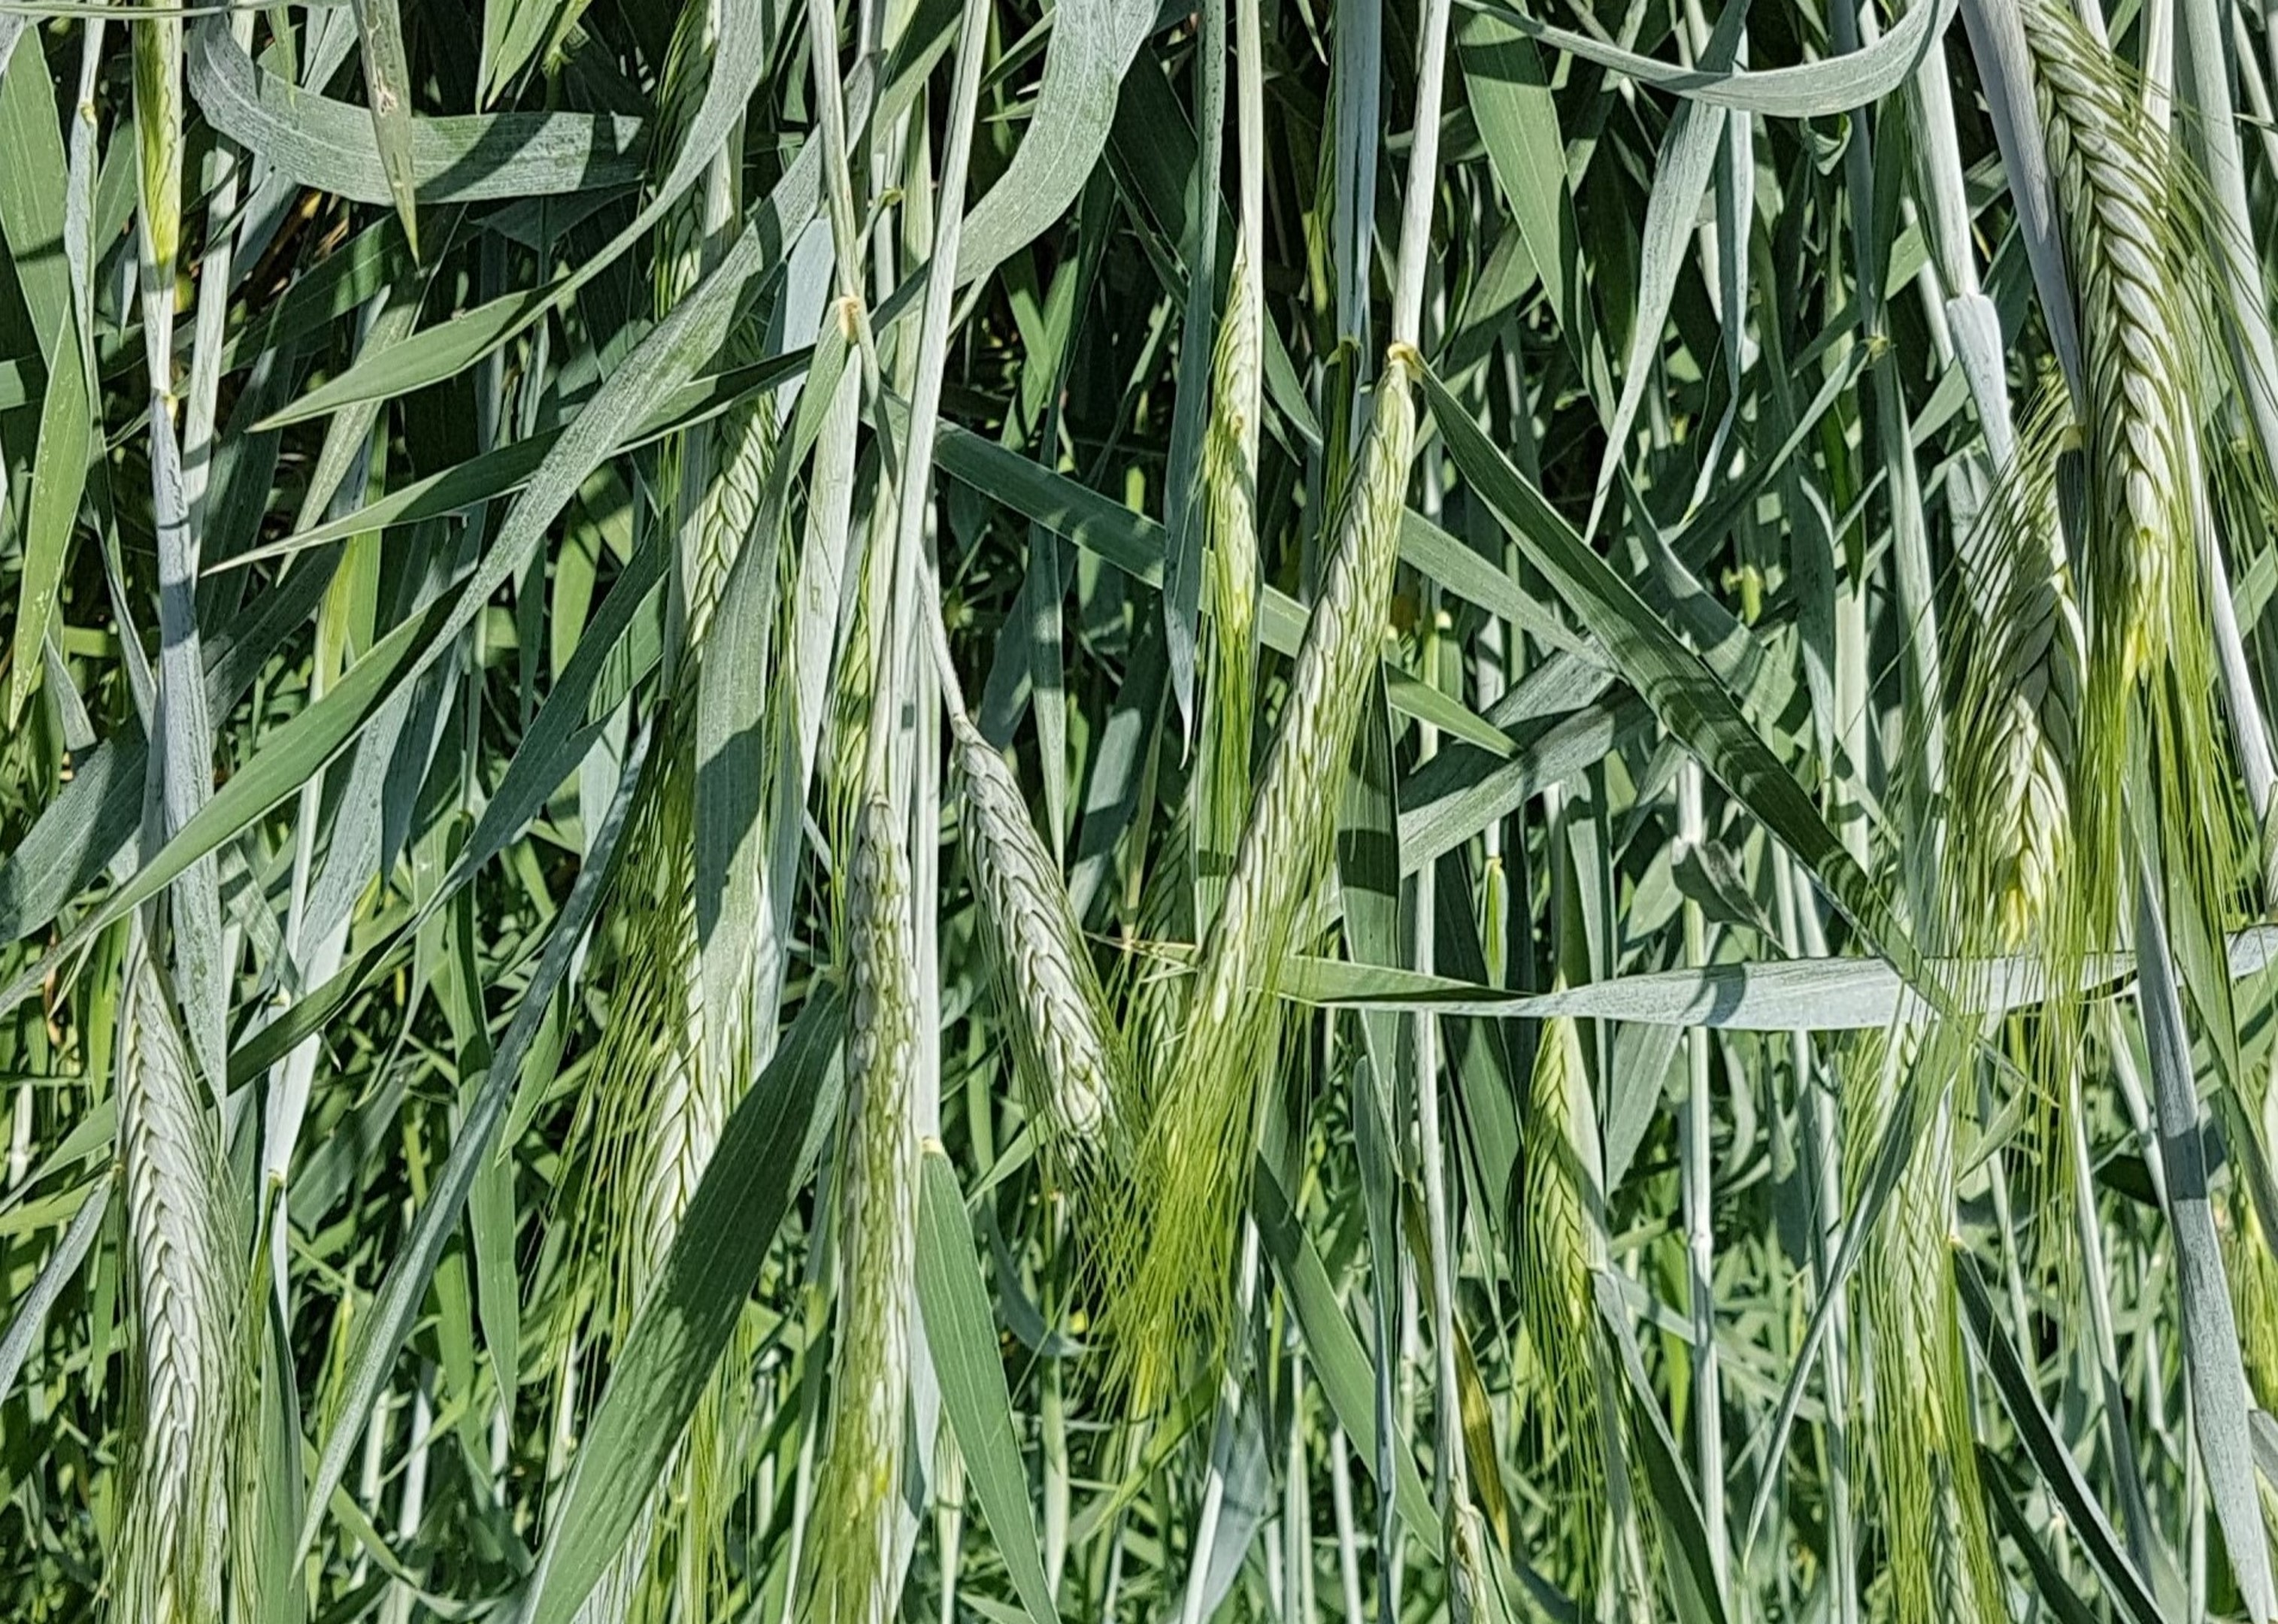Healthy Wheat: (2018, 33, 2241, 705), (83, 919, 271, 1541), (949, 698, 1141, 1158)
